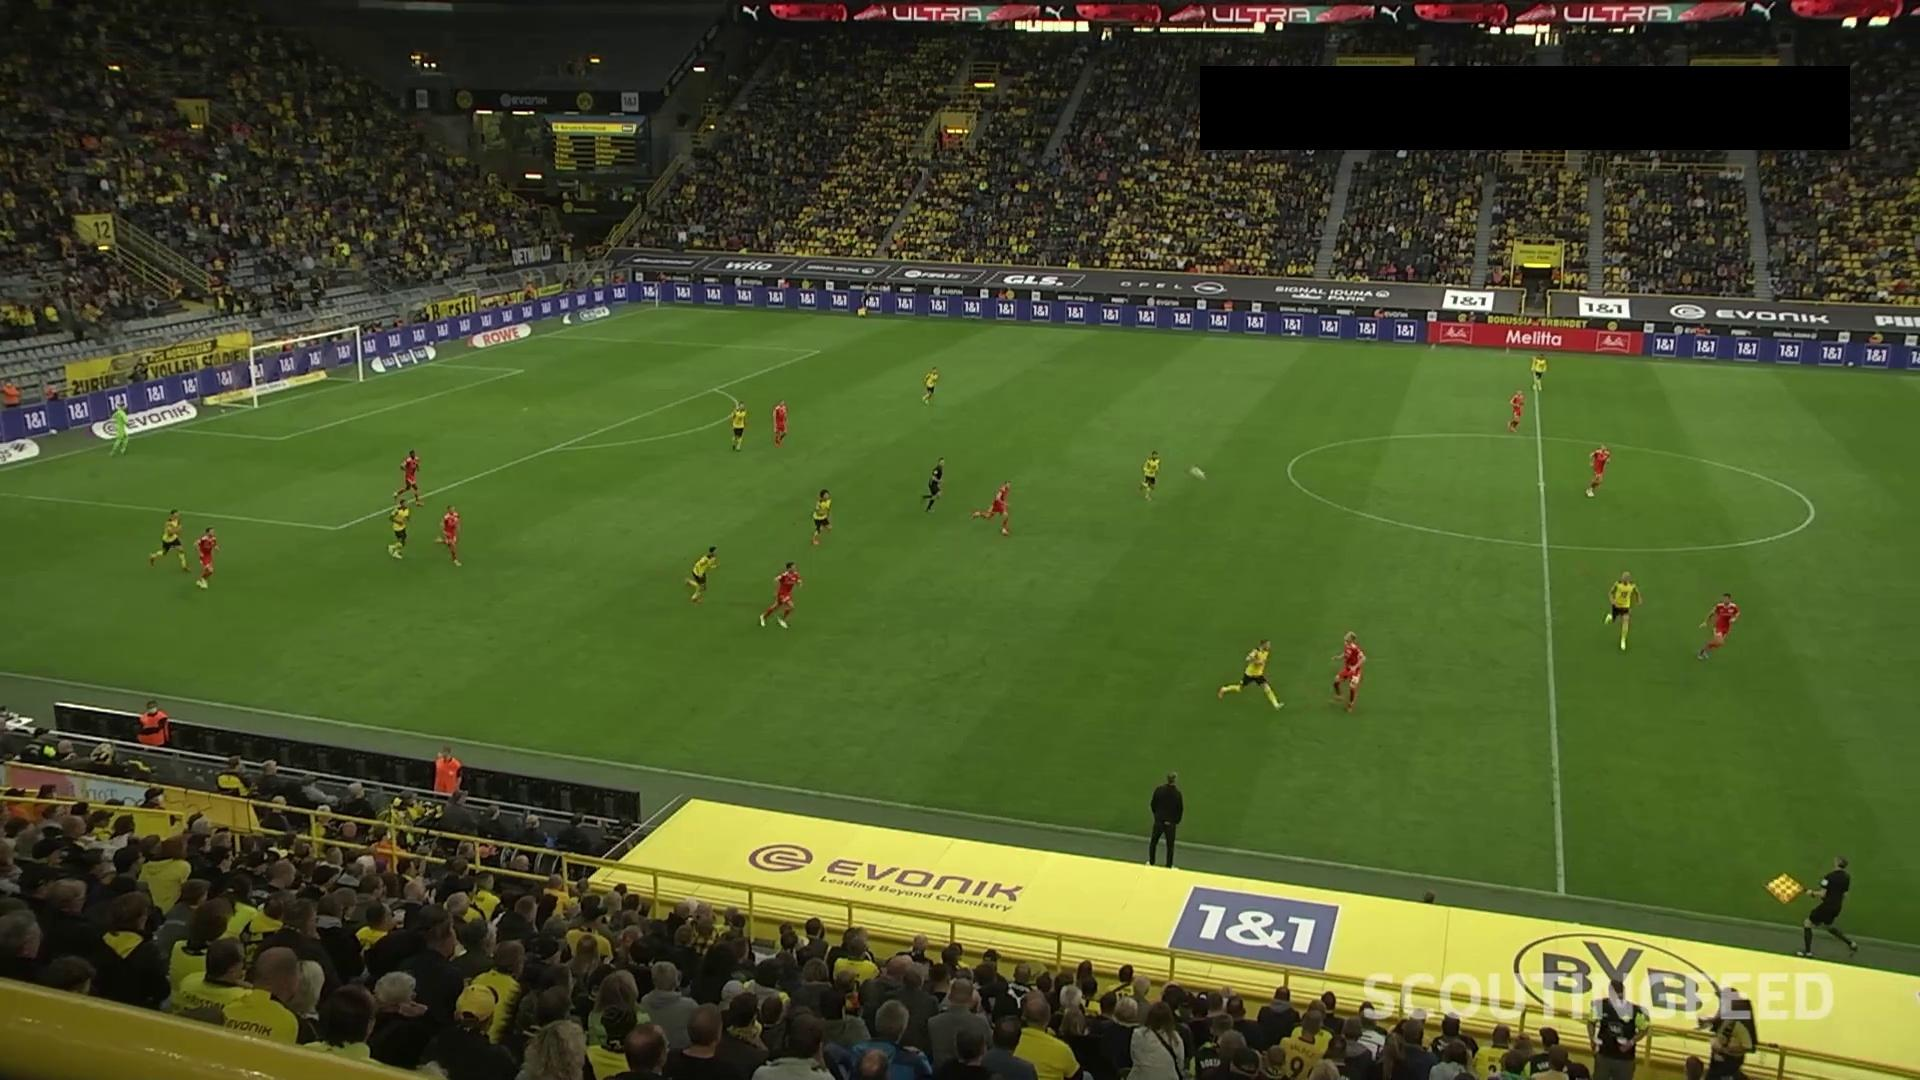Location-of-ball: (1184, 459, 1216, 491)
